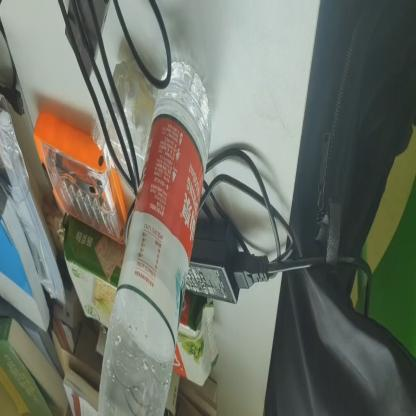Glass Bottle: (94, 60, 213, 416)
